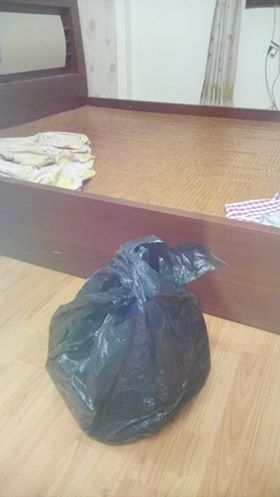plastic bag: (43, 230, 223, 445)
